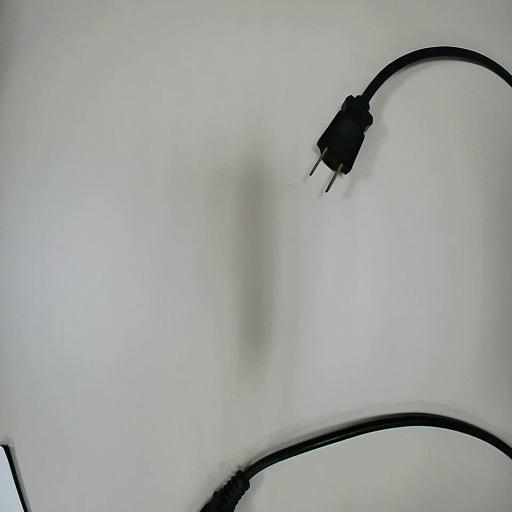wire: (200, 413, 511, 511), (318, 47, 511, 172)
